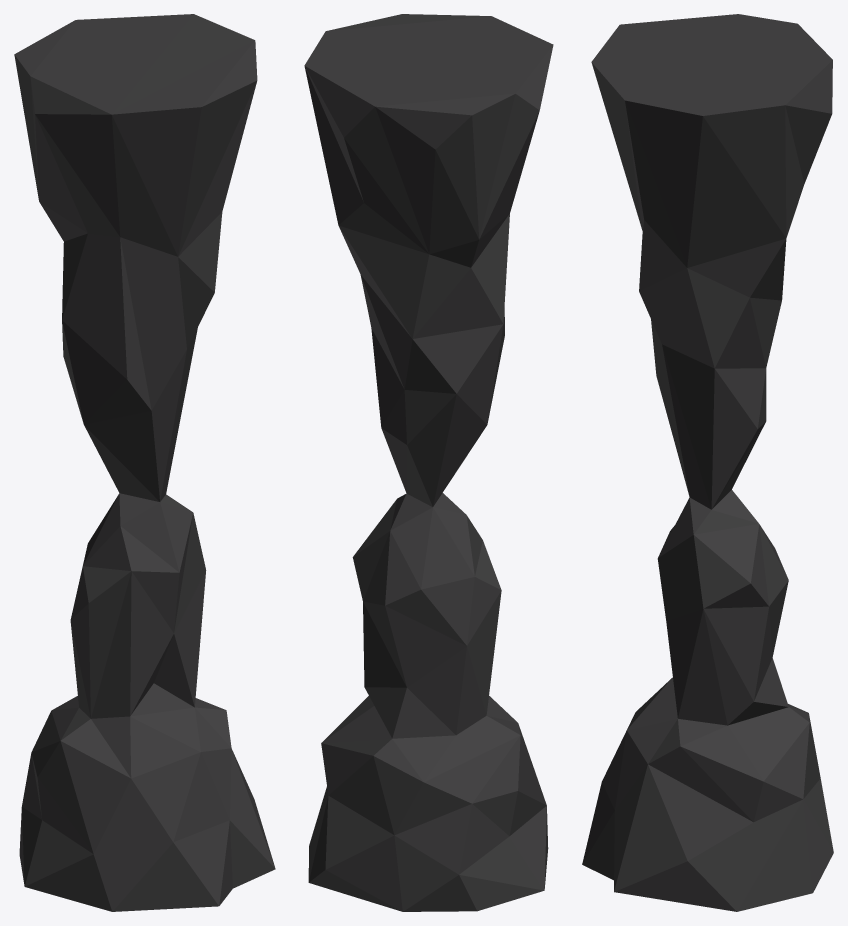
File: Stal_3B.fbx
3 renders of one model, left to right at view 1: azimuth 30°, elevation 25°; view 2: azimuth 150°, elevation 25°; view 3: azimuth 270°, elevation 25°, orthographic.
Visible parts, largest first — view 1: Group51550; view 2: Group51550; view 3: Group51550.
Boxes of the visible parts, left/top/right/bottom form: Group51550: left=14, top=14, right=275, bottom=911; Group51550: left=304, top=14, right=553, bottom=911; Group51550: left=582, top=14, right=833, bottom=911.
Bounding box in the file's own units: 1.73 × 5.89 × 1.68.
